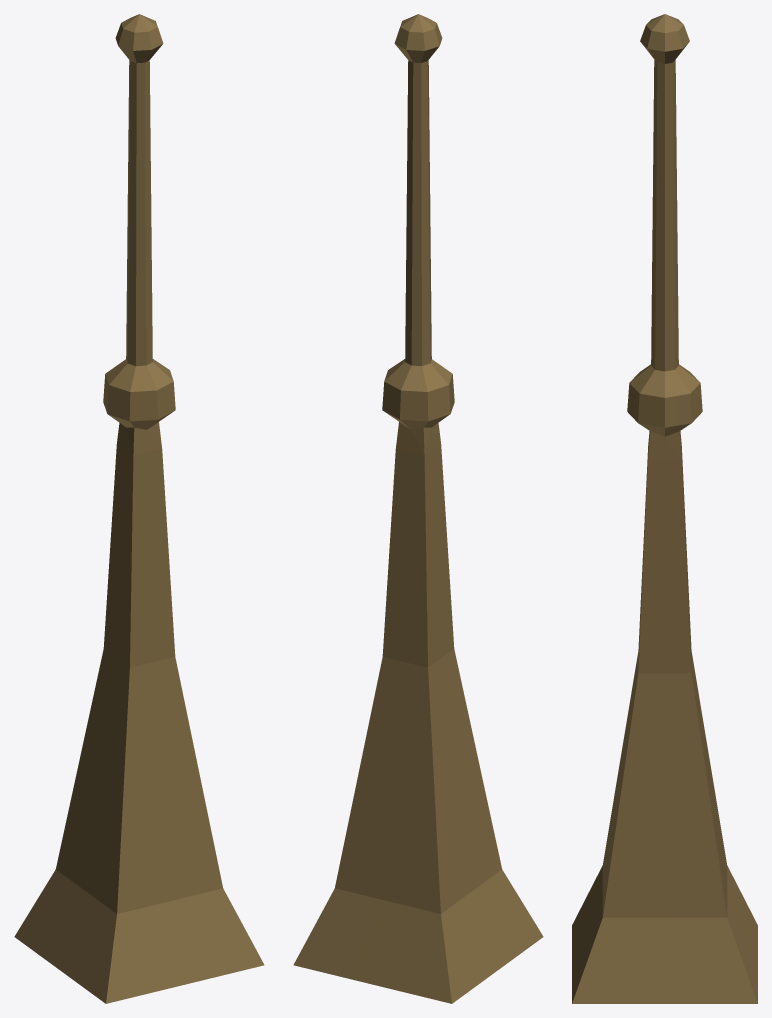
The model's file is kingdom_SM_Bld_Castle_Roof_Cap_Square_08.gltf.
3 renders of one model, left to right at view 1: azimuth 30°, elevation 25°; view 2: azimuth 150°, elevation 25°; view 3: azimuth 270°, elevation 25°, orthographic.
Visible parts, largest first — view 1: SM_Bld_Castle_Roof_Cap_Square_08; view 2: SM_Bld_Castle_Roof_Cap_Square_08; view 3: SM_Bld_Castle_Roof_Cap_Square_08.
Part boxes in pixels (x1,y1,x2,y2): SM_Bld_Castle_Roof_Cap_Square_08: (14,14,264,1003); SM_Bld_Castle_Roof_Cap_Square_08: (293,14,543,1003); SM_Bld_Castle_Roof_Cap_Square_08: (572,14,757,1003).
Size of the model in its own units: 1.2 by 6.76 by 1.2.
1 material, 1 textured.
